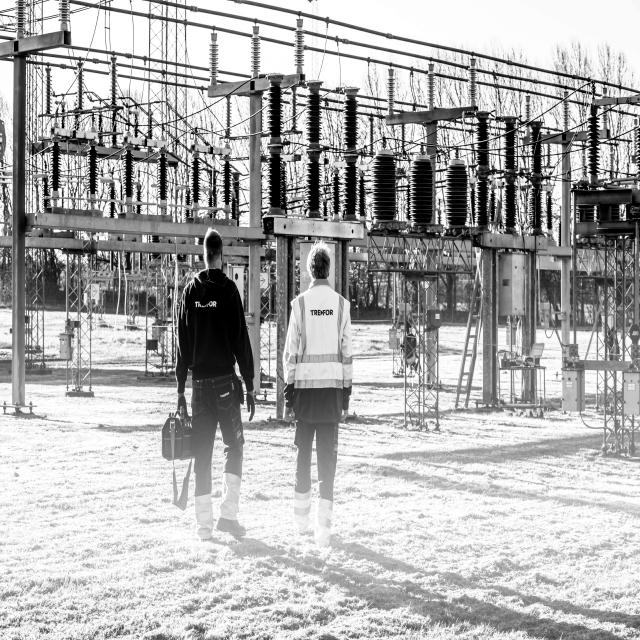No-Vest: (181, 279, 237, 375)
Vest: (291, 284, 348, 403)
